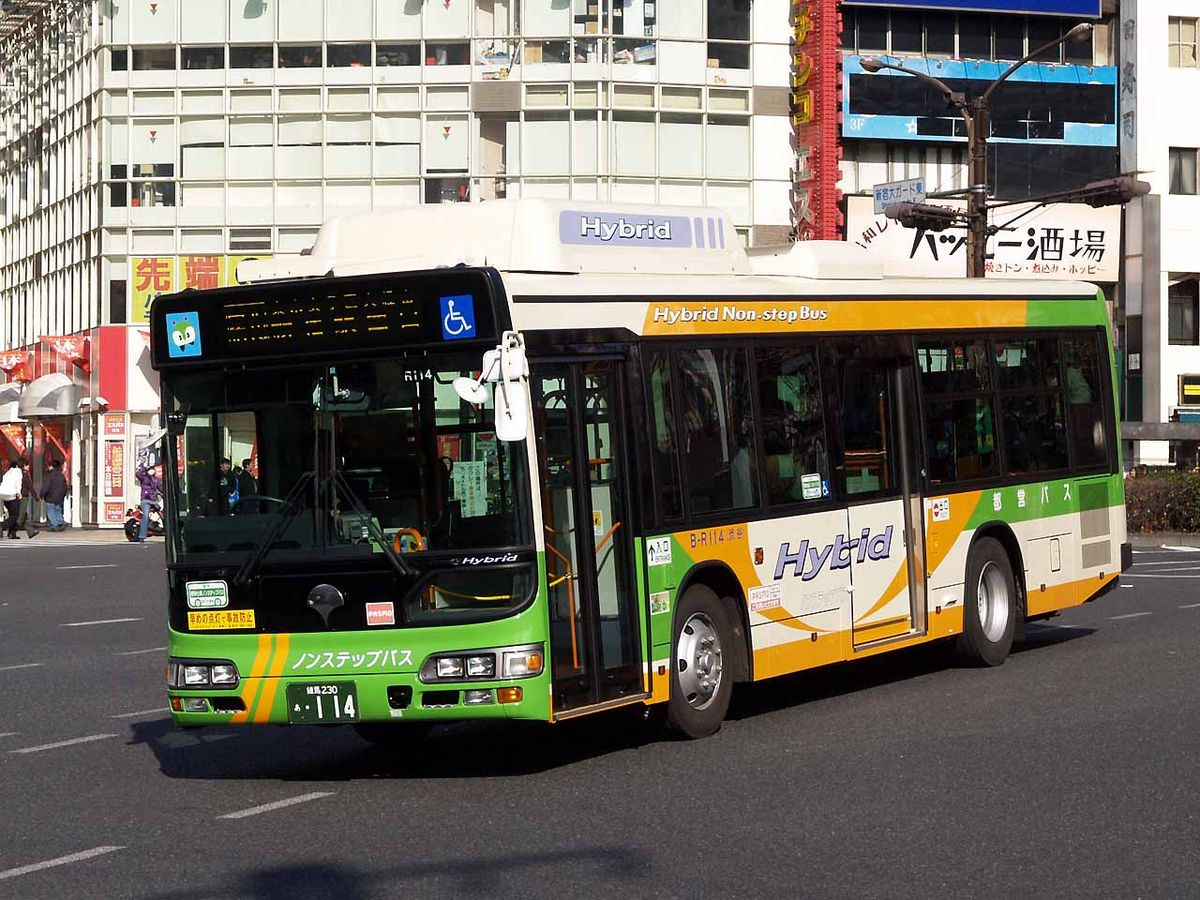bus: (117, 260, 1155, 728)
